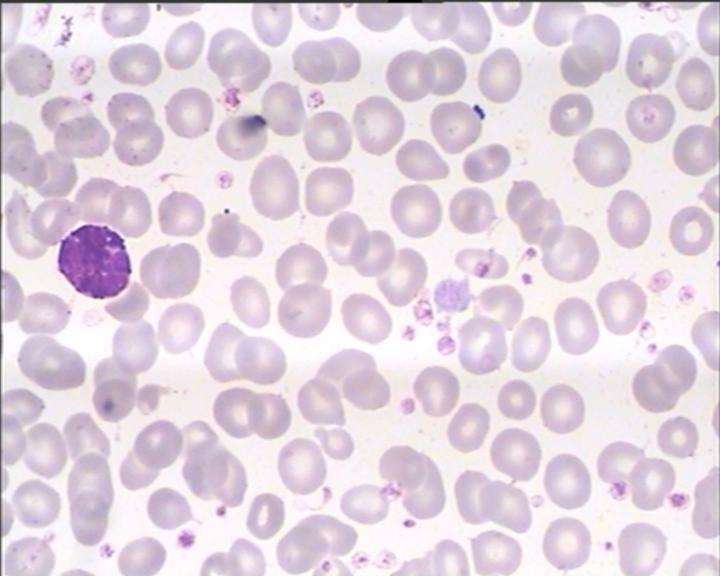baso: (49, 219, 136, 304)
